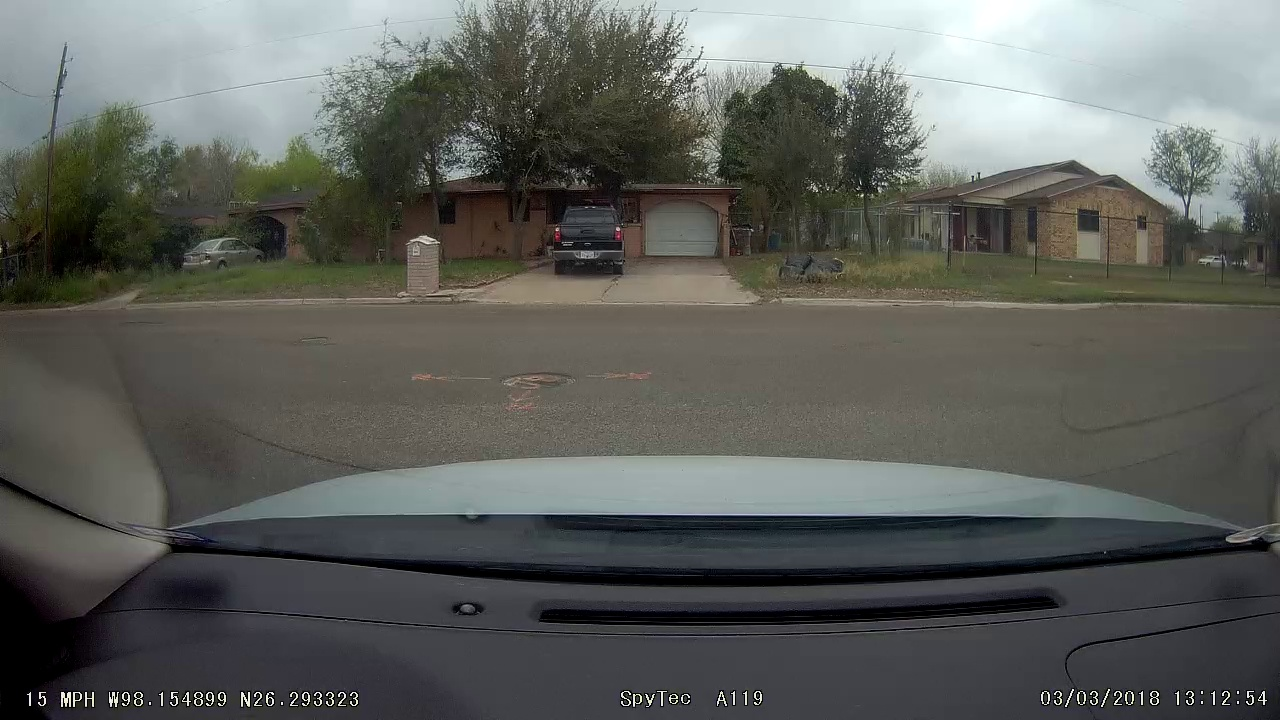manhole: (492, 354, 582, 402)
